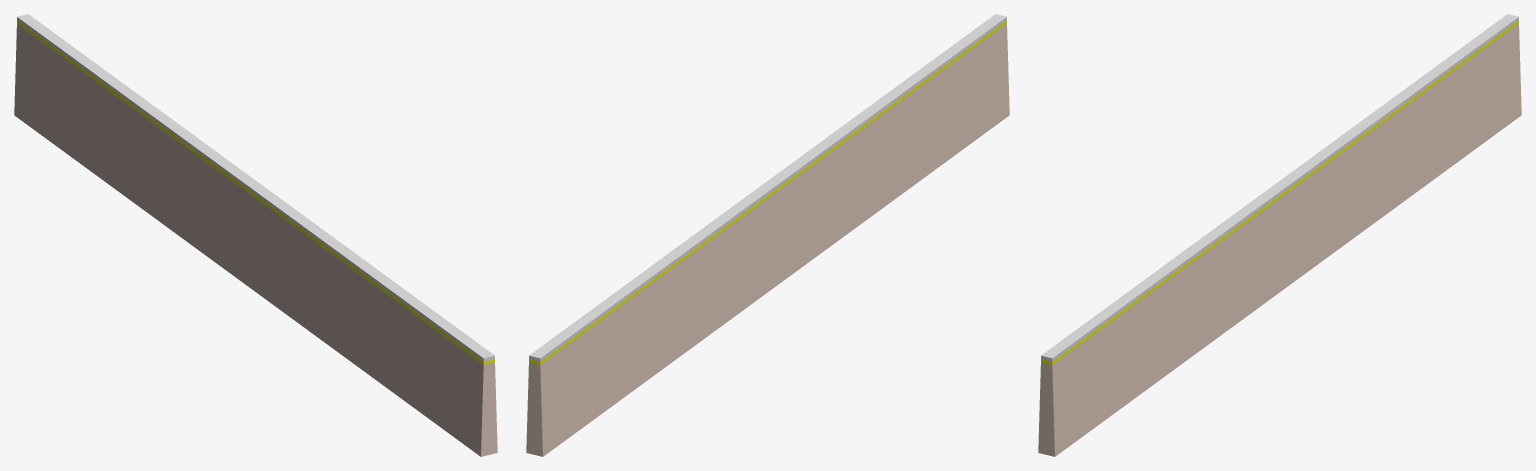
Rendered from DustCity_InnerWallsLong.fbx.
3 renders of one model, left to right at view 1: azimuth 30°, elevation 25°; view 2: azimuth 150°, elevation 25°; view 3: azimuth 330°, elevation 25°, orthographic.
Parts seen in each view (by area): view 1: DCInnerLongWall; view 2: DCInnerLongWall; view 3: DCInnerLongWall.
Boxes of the visible parts, <box> form: DCInnerLongWall: <box>14,14,497,456</box>; DCInnerLongWall: <box>526,14,1009,456</box>; DCInnerLongWall: <box>1038,14,1521,456</box>.
Size of the model in its own units: 14.51 by 81.03 by 700.
